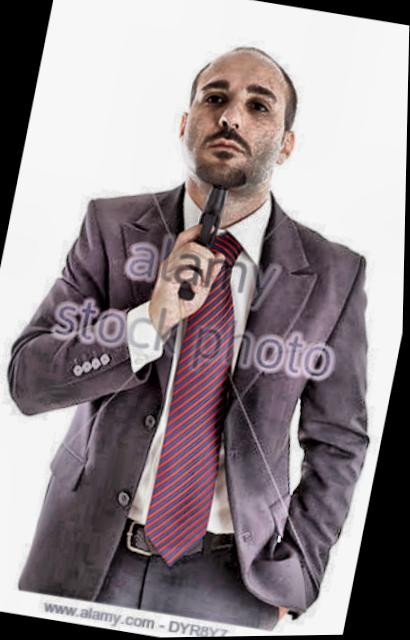pistol: (175, 181, 236, 307)
